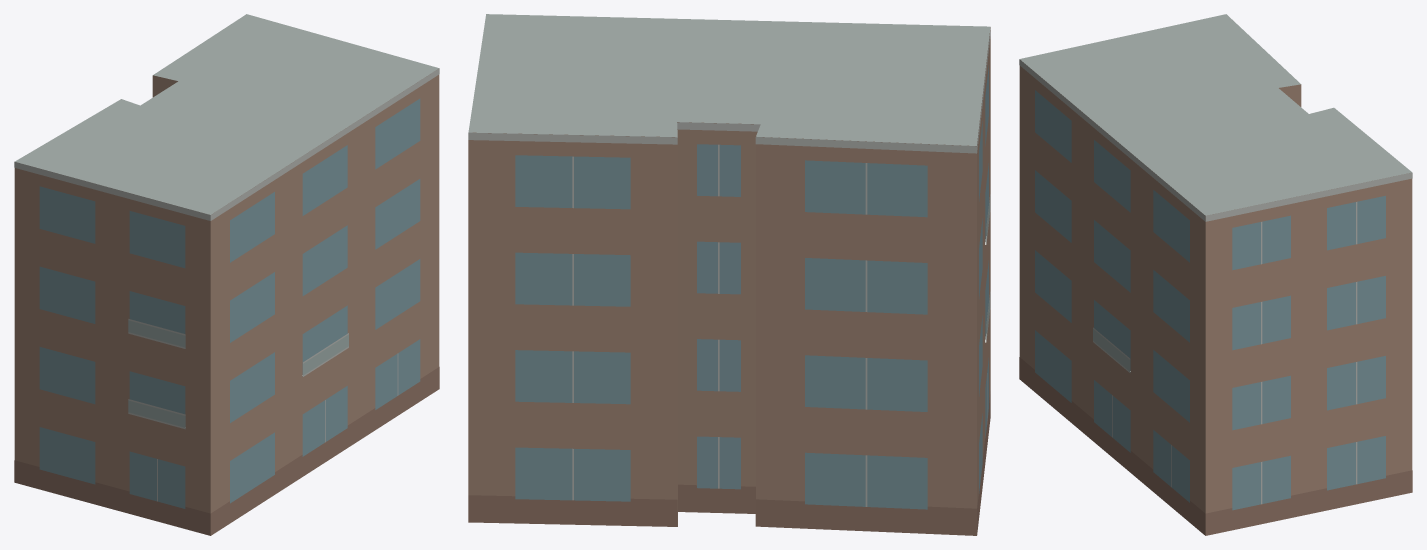
File: survey-upis-32742694.glb
3 renders of one model, left to right at view 1: azimuth 30°, elevation 25°; view 2: azimuth 150°, elevation 25°; view 3: azimuth 270°, elevation 25°, orthographic. The views are drawn at different scales.
Parts seen in each view (by area): view 1: survey-upis-32742694.tmp; view 2: survey-upis-32742694.tmp; view 3: survey-upis-32742694.tmp.
Boxes of the visible parts, <box> form: survey-upis-32742694.tmp: <box>14,14,439,535</box>; survey-upis-32742694.tmp: <box>468,14,990,535</box>; survey-upis-32742694.tmp: <box>1019,14,1412,535</box>.
Bounding box in the file's own units: 17.31 × 12.8 × 14.25.
